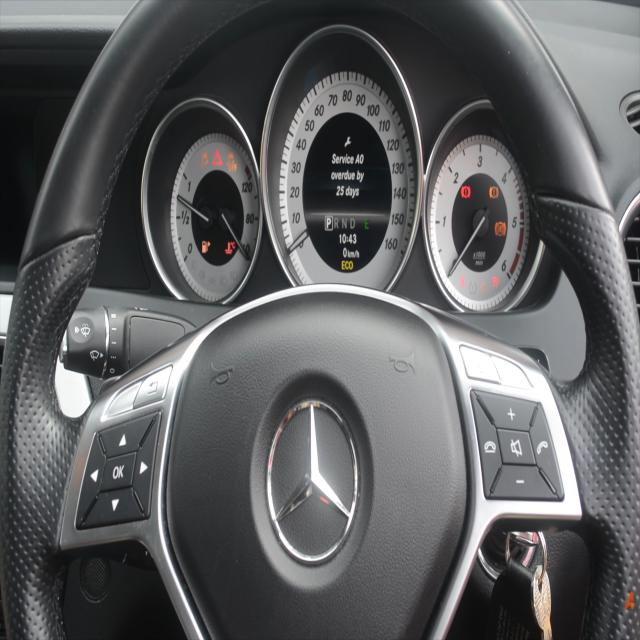Anti Lock Braking System: (494, 222, 506, 236)
Braking System Issue: (461, 185, 471, 198)
Check Engine: (481, 282, 489, 293)
Electronic Stability Problem -ESP-: (200, 152, 208, 168)
Engine Overheating Warning Light: (225, 241, 235, 254)
SRS-Airbag: (493, 276, 498, 288)
